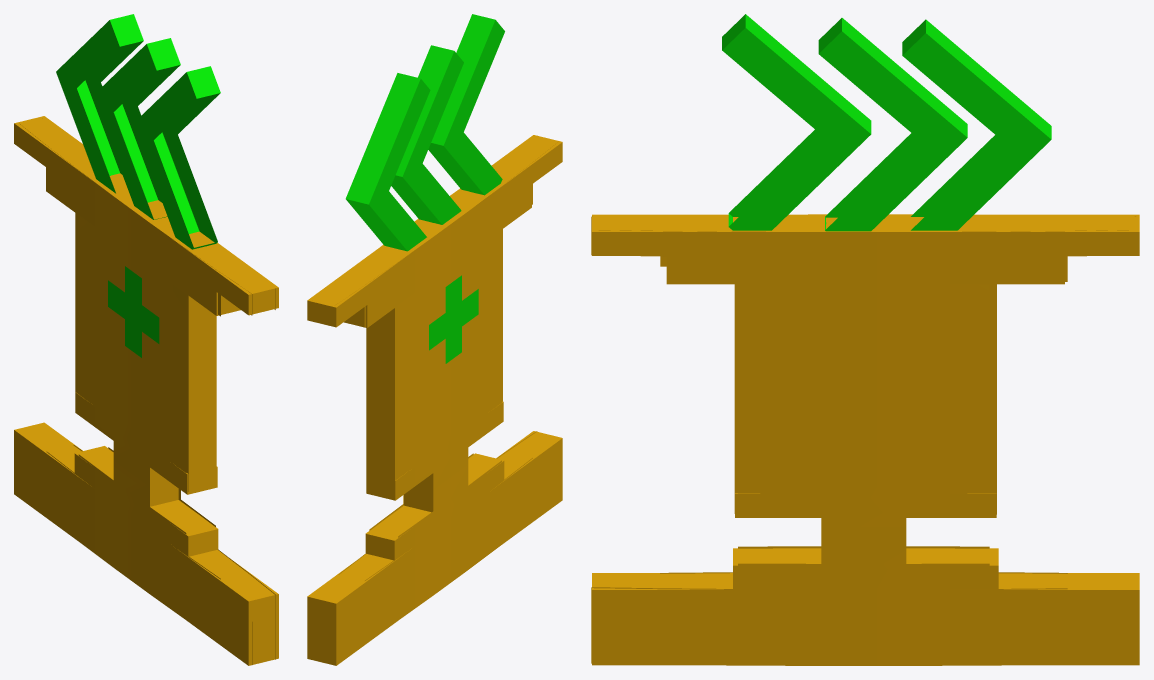
The model's file is speedUpCupObj.fbx.
The picture shows the model from 3 angles, left to right: view 1: azimuth 30°, elevation 25°; view 2: azimuth 150°, elevation 25°; view 3: azimuth 270°, elevation 25°; orthographic projection. The views are drawn at different scales.
Parts seen in each view (by area): view 1: speedUpCupObj; view 2: speedUpCupObj; view 3: speedUpCupObj.
Boxes of the visible parts, <box> form: speedUpCupObj: <box>14,14,278,665</box>; speedUpCupObj: <box>307,14,562,665</box>; speedUpCupObj: <box>591,14,1139,665</box>.
Bounding box in the file's own units: 0.1381 × 2.27 × 1.77.
